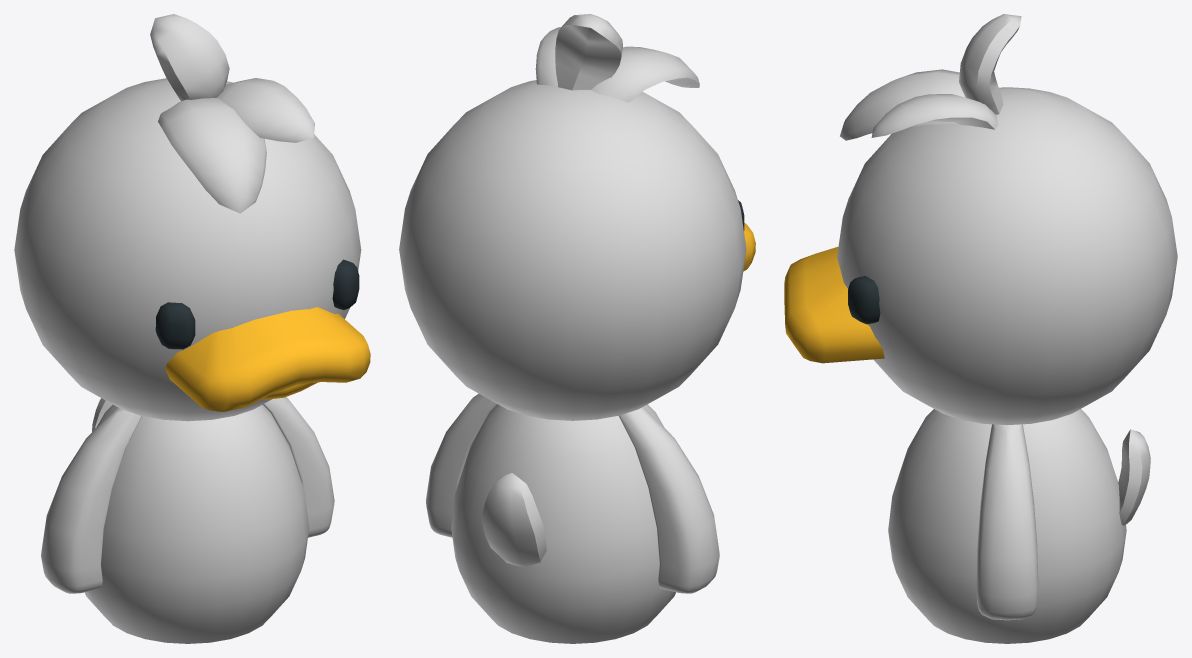
File: CartoonDucky-optim.glb
3 renders of one model, left to right at view 1: azimuth 30°, elevation 25°; view 2: azimuth 150°, elevation 25°; view 3: azimuth 270°, elevation 25°, orthographic.
Visible parts, largest first — view 1: character_duck, character_duckHead; view 2: character_duck; view 3: character_duck, character_duckHead.
Part boxes in pixels (left/top/right/bottom): character_duck: left=14, top=14, right=361, bottom=643; character_duckHead: left=155, top=259, right=370, bottom=411; character_duck: left=399, top=14, right=746, bottom=643; character_duck: left=837, top=14, right=1177, bottom=643; character_duckHead: left=784, top=247, right=884, bottom=363.
Bounding box in the file's own units: 1 × 1.89 × 1.15.
